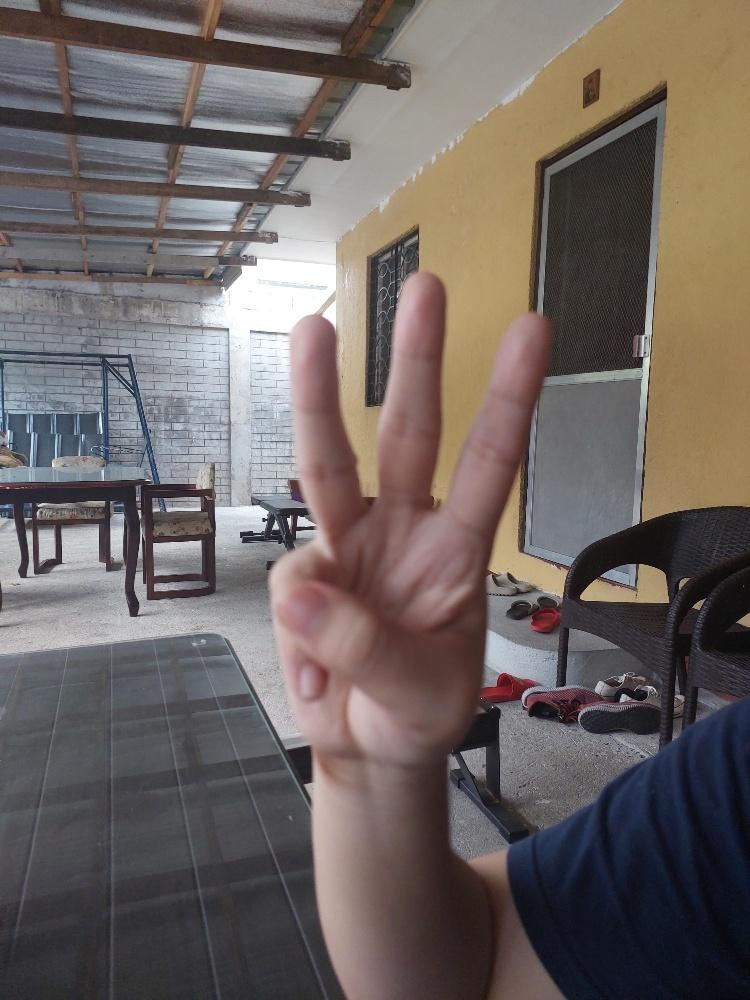w: (265, 264, 556, 772)
